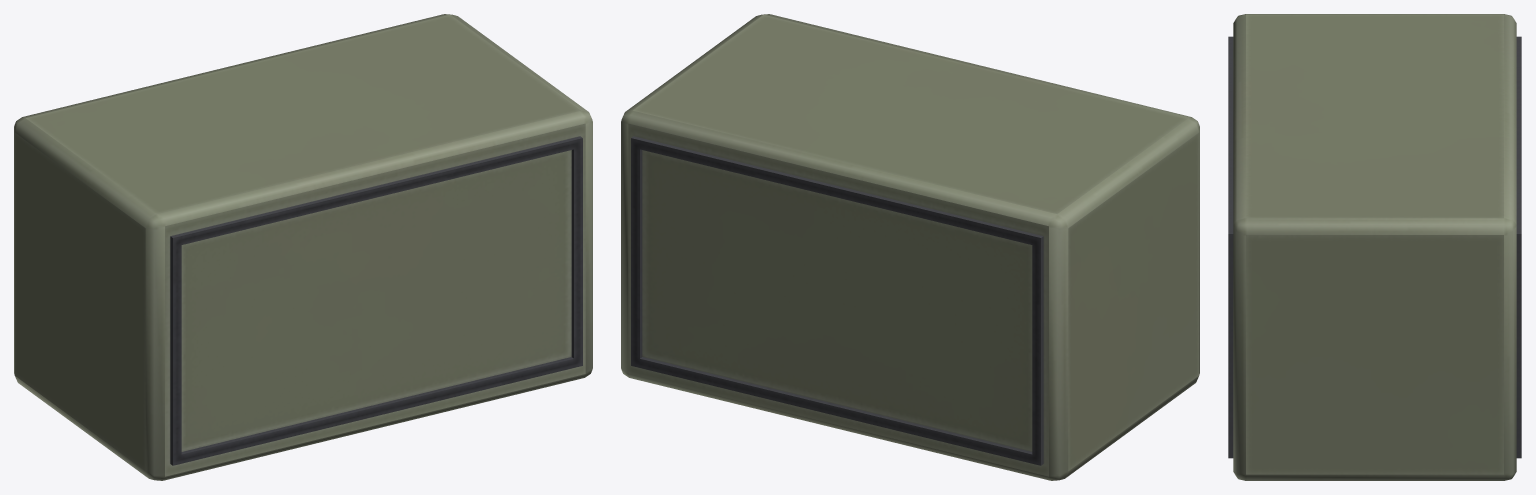
File: AT_QDXMag.fbx
3 views of the same model, side by side, from view 1: azimuth 30°, elevation 25°; view 2: azimuth 150°, elevation 25°; view 3: azimuth 270°, elevation 25° (orthographic).
Parts seen in each view (by area): view 1: AT_QDXMag; view 2: AT_QDXMag; view 3: AT_QDXMag.
Boxes of the visible parts, x1,y1,x2,y2 form: AT_QDXMag: (14,14,592,480); AT_QDXMag: (621,14,1199,480); AT_QDXMag: (1228,14,1521,480).
Bounding box in the file's own units: 0.061 × 0.0347 × 0.0352.
Materials: 1 (1 with a texture image).
